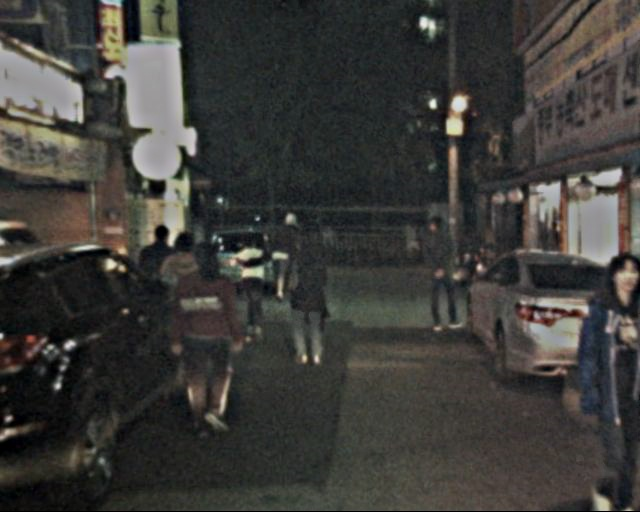person: (552, 251, 640, 510), (168, 245, 248, 433), (155, 235, 212, 365), (279, 235, 333, 372), (136, 224, 185, 340), (418, 215, 466, 330), (226, 233, 275, 342), (267, 212, 308, 307)
